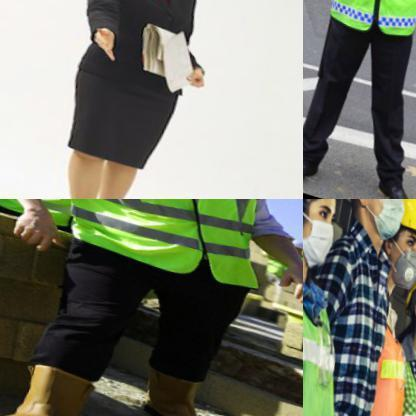vest: (25, 199, 295, 297), (303, 249, 367, 415), (337, 307, 415, 415), (309, 0, 415, 51), (367, 329, 415, 415)
